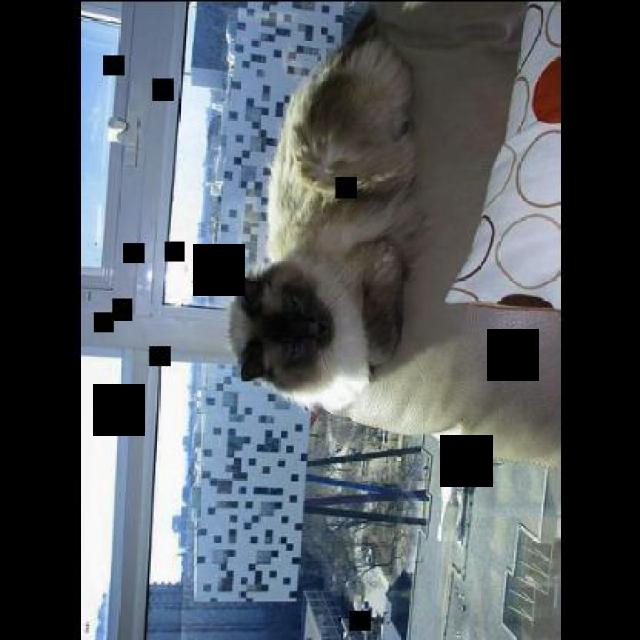unauthorized: (226, 8, 429, 423)
